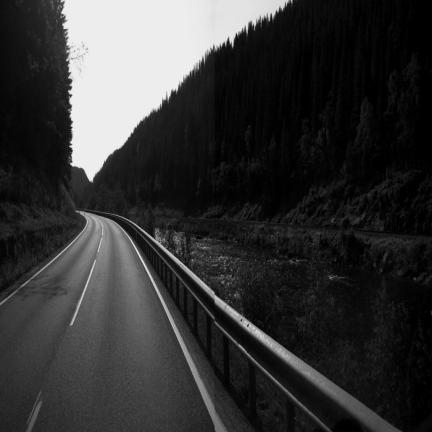Road: (0, 214, 214, 430)
